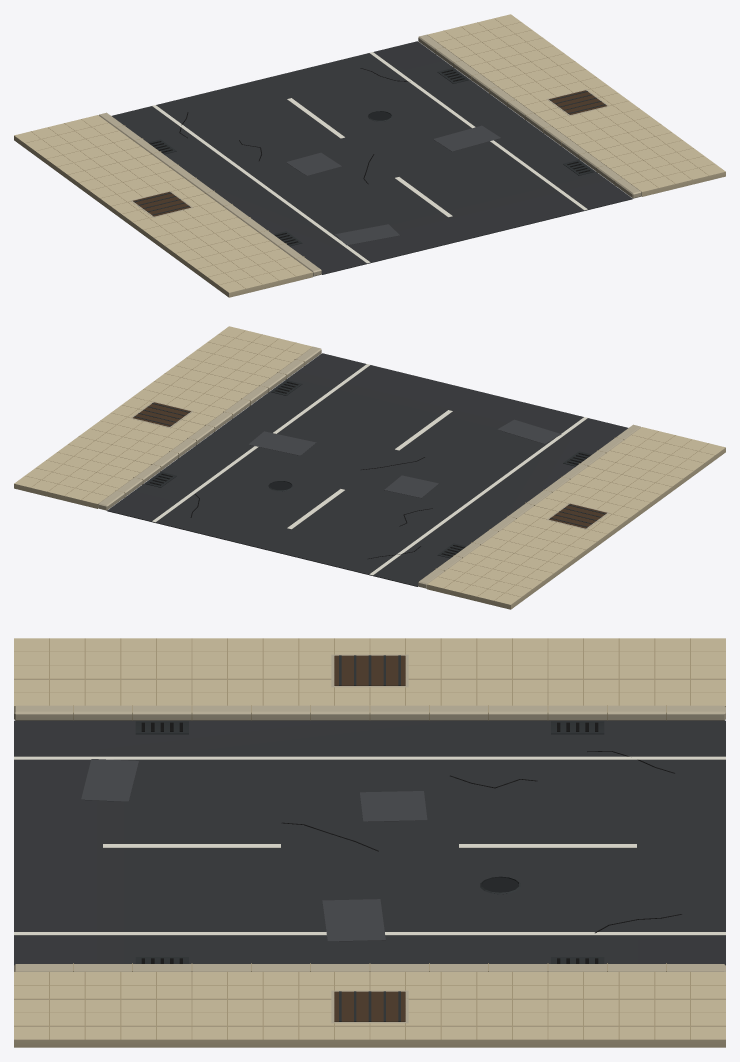
The model's file is jlm_road.glb.
3 views of the same model, one above another, from view 1: azimuth 30°, elevation 25°; view 2: azimuth 150°, elevation 25°; view 3: azimuth 270°, elevation 25° (orthographic). The views are drawn at different scales.
Parts seen in each view (by area): view 1: jlm_road; view 2: jlm_road; view 3: jlm_road.
Part boxes in pixels (x1,y1,x2,y2): jlm_road: (14, 14, 725, 297); jlm_road: (14, 326, 725, 609); jlm_road: (14, 638, 725, 1047).
Size of the model in its own units: 16 by 0.171 by 12.
